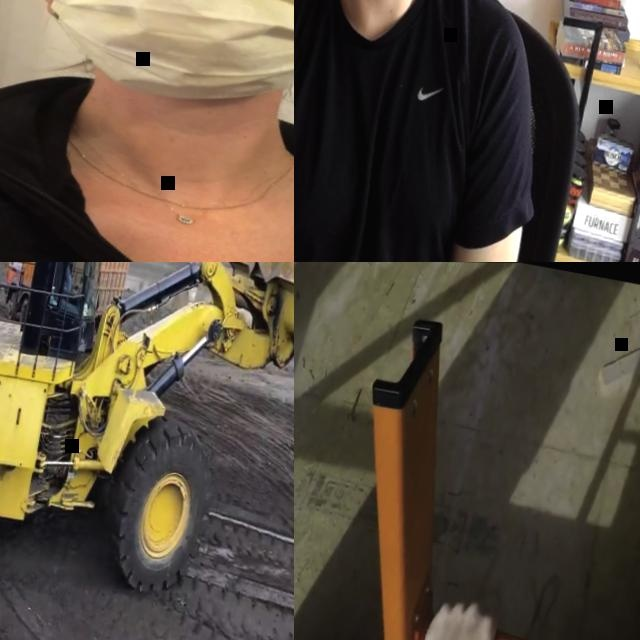Mask: (26, 0, 294, 124)
NO-Mask: (67, 262, 75, 265)
NO-Safety Vest: (0, 53, 294, 262), (294, 0, 504, 262), (63, 266, 76, 293)
Person: (294, 0, 622, 262), (0, 0, 294, 262), (337, 583, 504, 640), (57, 262, 90, 309)
machinery: (0, 262, 294, 640), (0, 262, 141, 340)
